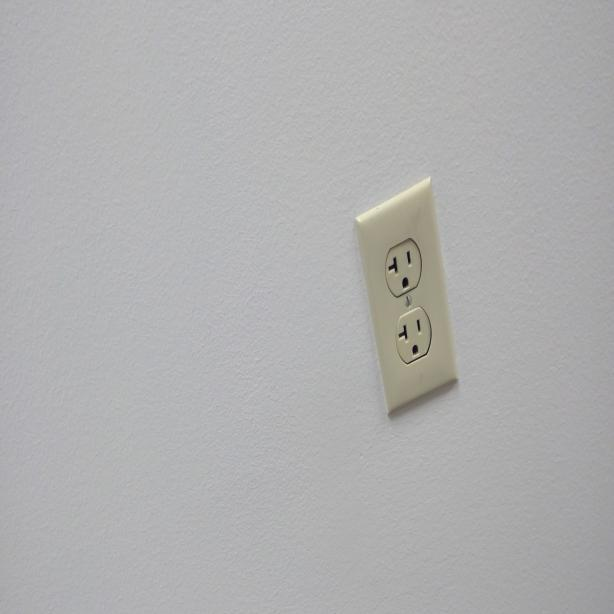typeb: (392, 306, 434, 367), (384, 240, 423, 294)
